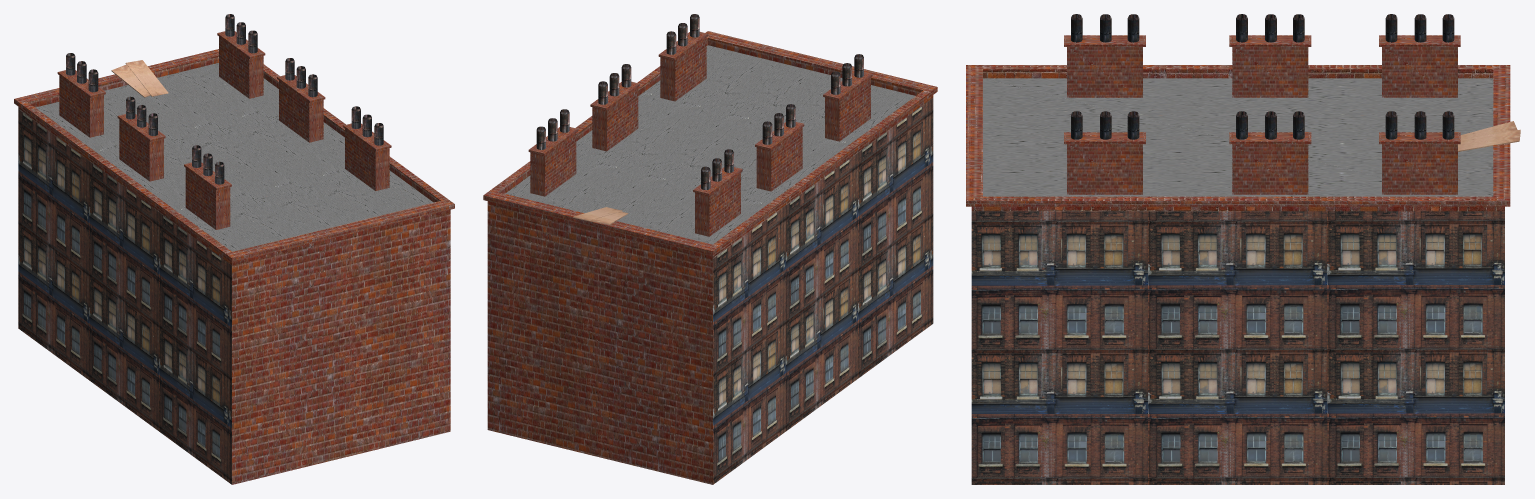
File: Box1WithTextures01.obj
3 views of the same model, side by side, from view 1: azimuth 30°, elevation 25°; view 2: azimuth 150°, elevation 25°; view 3: azimuth 270°, elevation 25° (orthographic). The views are drawn at different scales.
Parts seen in each view (by area): view 1: Box_BrickWallMat, Box_BrickWallWindowsMat, Box_HardFloorMat, Pipe_BrickWallMat, Pipe.003_BrickWallMat.004, Pipe.004_BrickWallMat.005, Pipe.005_BrickWallMat.006, Pipe.001_BrickWallMat.002, Pipe.002_BrickWallMat.003, ExitPlane.001_Wood.001, ExitPlane_Wood.001; view 2: Box_BrickWallMat, Box_BrickWallWindowsMat, Box_HardFloorMat, Pipe.003_BrickWallMat.004, Pipe.005_BrickWallMat.006, Pipe.004_BrickWallMat.005, Pipe.001_BrickWallMat.002, Pipe_BrickWallMat, Pipe.002_BrickWallMat.003; view 3: Box_BrickWallWindowsMat, Box_HardFloorMat, Box_BrickWallMat, Pipe.004_BrickWallMat.005, Pipe.001_BrickWallMat.002, Pipe.003_BrickWallMat.004, Pipe.005_BrickWallMat.006, Pipe.002_BrickWallMat.003, Pipe_BrickWallMat, ExitPlane.001_Wood.001.
Part boxes in pixels (x1,y1,x2,y2): Box_BrickWallMat: [14, 49, 454, 484]; Box_BrickWallWindowsMat: [18, 109, 231, 484]; Box_HardFloorMat: [35, 63, 433, 251]; Pipe_BrickWallMat: [184, 162, 231, 229]; Pipe.003_BrickWallMat.004: [217, 31, 265, 98]; Pipe.004_BrickWallMat.005: [277, 75, 325, 142]; Pipe.005_BrickWallMat.006: [343, 123, 391, 190]; Pipe.001_BrickWallMat.002: [117, 114, 165, 181]; Pipe.002_BrickWallMat.003: [57, 70, 105, 137]; ExitPlane.001_Wood.001: [125, 60, 168, 96]; ExitPlane_Wood.001: [111, 64, 150, 97]; Box_BrickWallMat: [483, 31, 937, 484]; Box_BrickWallWindowsMat: [713, 98, 933, 484]; Box_HardFloorMat: [505, 45, 915, 244]; Pipe.003_BrickWallMat.004: [528, 127, 578, 196]; Pipe.005_BrickWallMat.006: [658, 32, 708, 101]; Pipe.004_BrickWallMat.005: [590, 81, 639, 151]; Pipe.001_BrickWallMat.002: [755, 122, 804, 191]; Pipe_BrickWallMat: [823, 72, 872, 141]; Pipe.002_BrickWallMat.003: [693, 167, 742, 236]; Box_BrickWallWindowsMat: [971, 211, 1504, 484]; Box_HardFloorMat: [983, 78, 1493, 196]; Box_BrickWallMat: [966, 65, 1510, 211]; Pipe.004_BrickWallMat.005: [1229, 132, 1311, 194]; Pipe.001_BrickWallMat.002: [1229, 35, 1311, 97]; Pipe.003_BrickWallMat.004: [1379, 132, 1460, 194]; Pipe.005_BrickWallMat.006: [1064, 132, 1145, 194]; Pipe.002_BrickWallMat.003: [1379, 35, 1460, 97]; Pipe_BrickWallMat: [1064, 35, 1145, 97]; ExitPlane.001_Wood.001: [1458, 129, 1520, 151].
Size of the model in its own units: 6.53 by 7.94 by 11.28.
